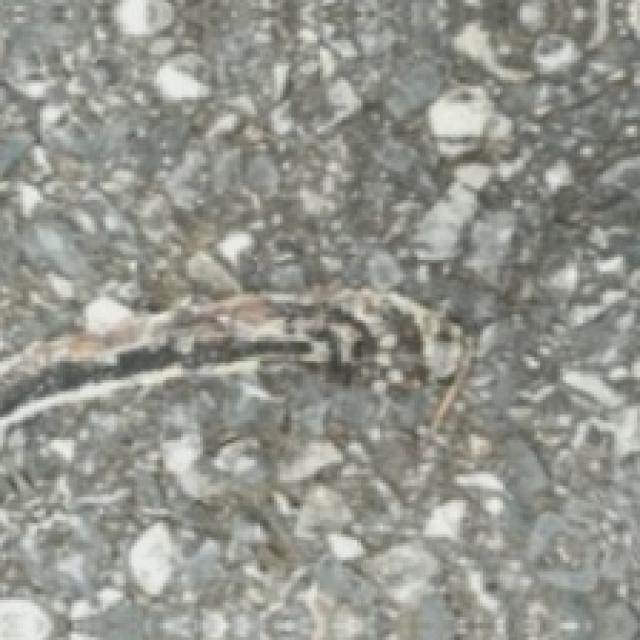king cobra: (0, 291, 466, 431)
